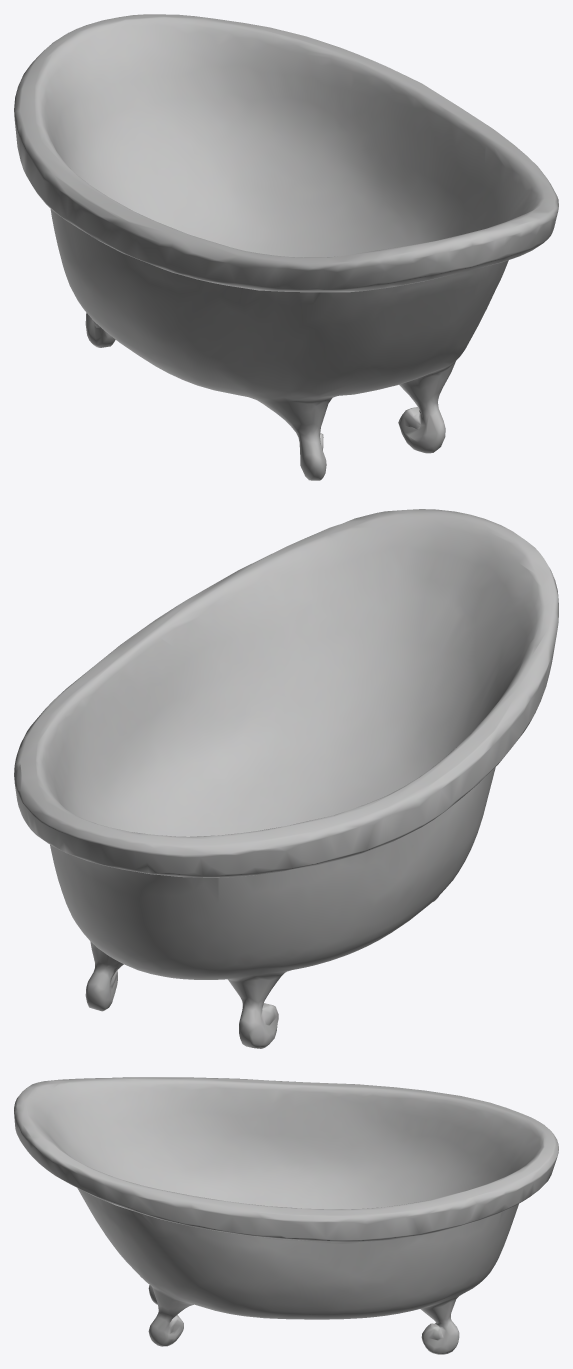
The model's file is SM_Bathtub.fbx.
3 views of the same model, one above another, from view 1: azimuth 30°, elevation 25°; view 2: azimuth 150°, elevation 25°; view 3: azimuth 270°, elevation 25° (orthographic). The views are drawn at different scales.
Visible parts, largest first — view 1: SM_Bathtub_LOD0; view 2: SM_Bathtub_LOD0; view 3: SM_Bathtub_LOD0.
Boxes of the visible parts, x1,y1,x2,y2 form: SM_Bathtub_LOD0: (14, 14, 558, 480); SM_Bathtub_LOD0: (14, 509, 558, 1048); SM_Bathtub_LOD0: (14, 1077, 558, 1354).
Size of the model in its own units: 184 by 309 by 137.
Materials: 1 (1 with a texture image).
